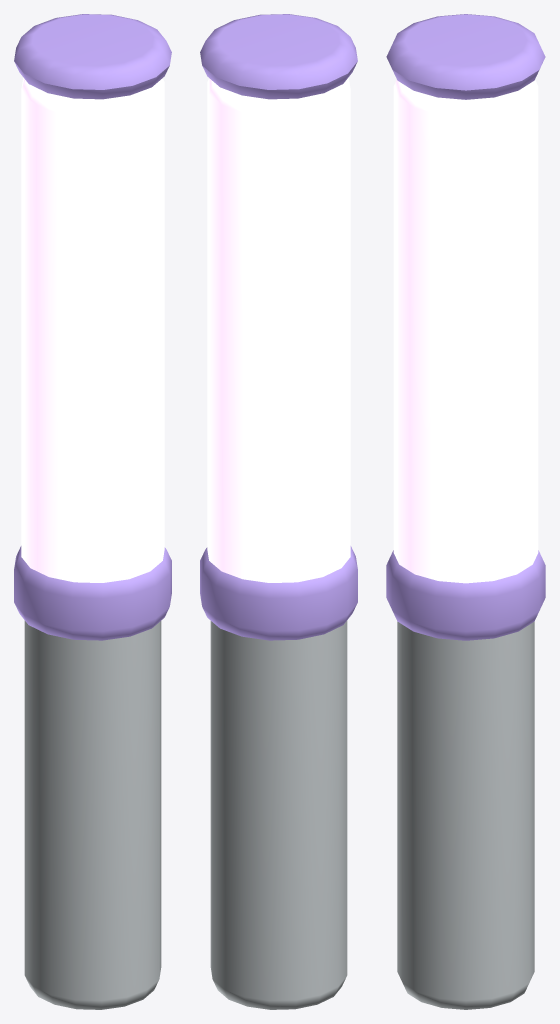
The model's file is penlight.glb.
3 renders of one model, left to right at view 1: azimuth 30°, elevation 25°; view 2: azimuth 150°, elevation 25°; view 3: azimuth 270°, elevation 25°, orthographic.
Parts seen in each view (by area): view 1: Penlight lens, Penlight grip, Penlight cap, Penlight collar; view 2: Penlight lens, Penlight grip, Penlight cap, Penlight collar; view 3: Penlight lens, Penlight grip, Penlight cap, Penlight collar.
Part boxes in pixels (x1,y1,x2,y2): Penlight lens: (21,77,164,582); Penlight grip: (24,620,161,1009); Penlight cap: (14,14,171,99); Penlight collar: (14,546,171,640); Penlight lens: (207,77,350,582); Penlight grip: (210,620,347,1009); Penlight cap: (200,14,357,99); Penlight collar: (200,546,357,640); Penlight lens: (393,80,538,583); Penlight grip: (397,621,534,1009); Penlight cap: (386,14,545,99); Penlight collar: (386,550,545,640).
Bounding box in the file's own units: 0.22 × 1.45 × 0.22.
